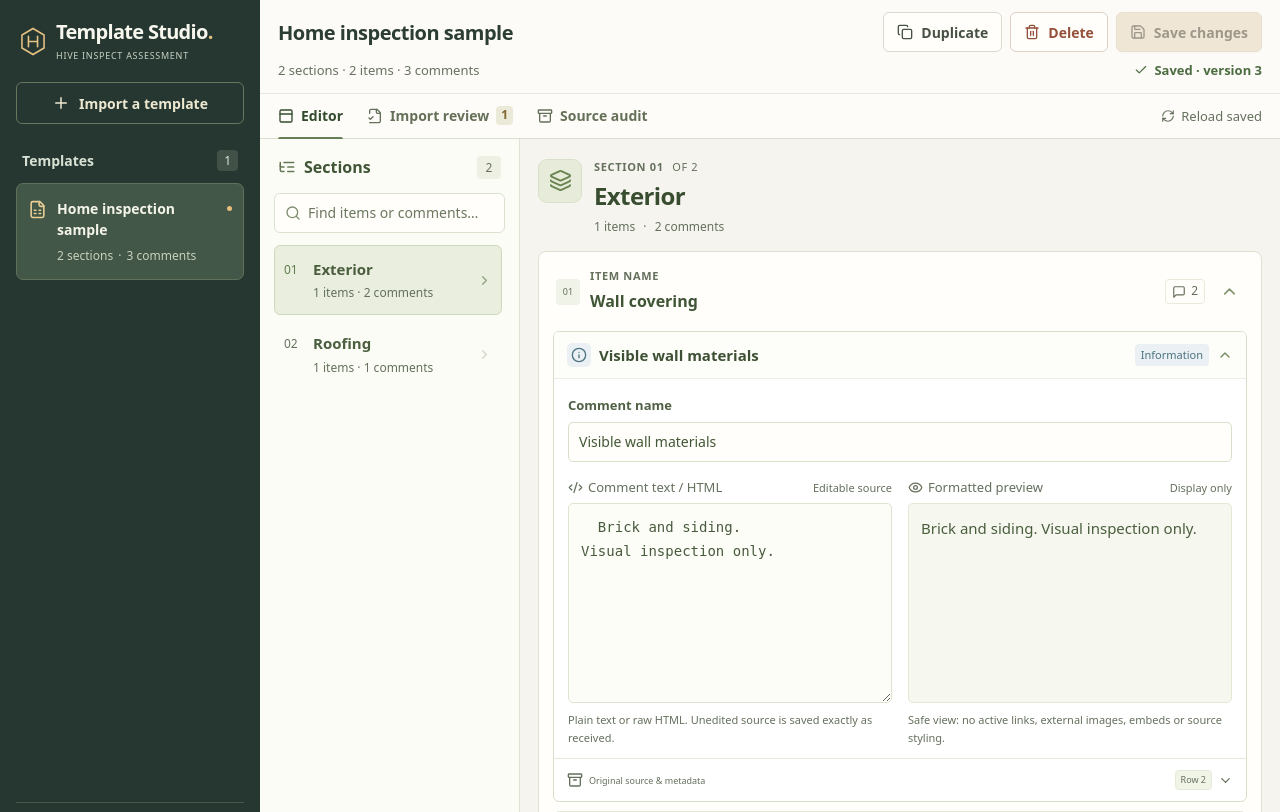
Scenario: end-to-end client state with unit-test API mocks › creates and selects an independent duplicate without issuing an update to the original
Replace the text in the field named "Template name" with "Unsaved original" at x=568, y=32, box [273,14,862,50]
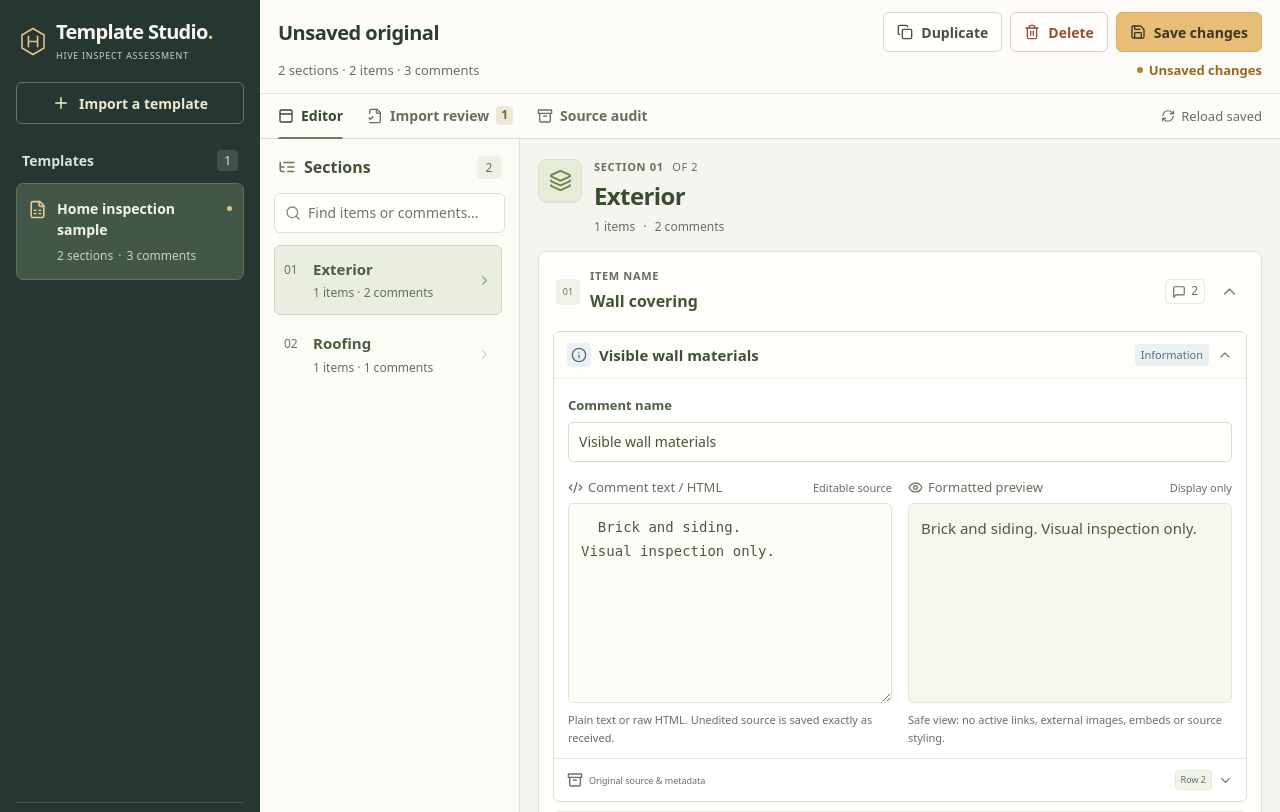
Click the button "Duplicate" at x=943, y=32, box [883,12,1002,52]
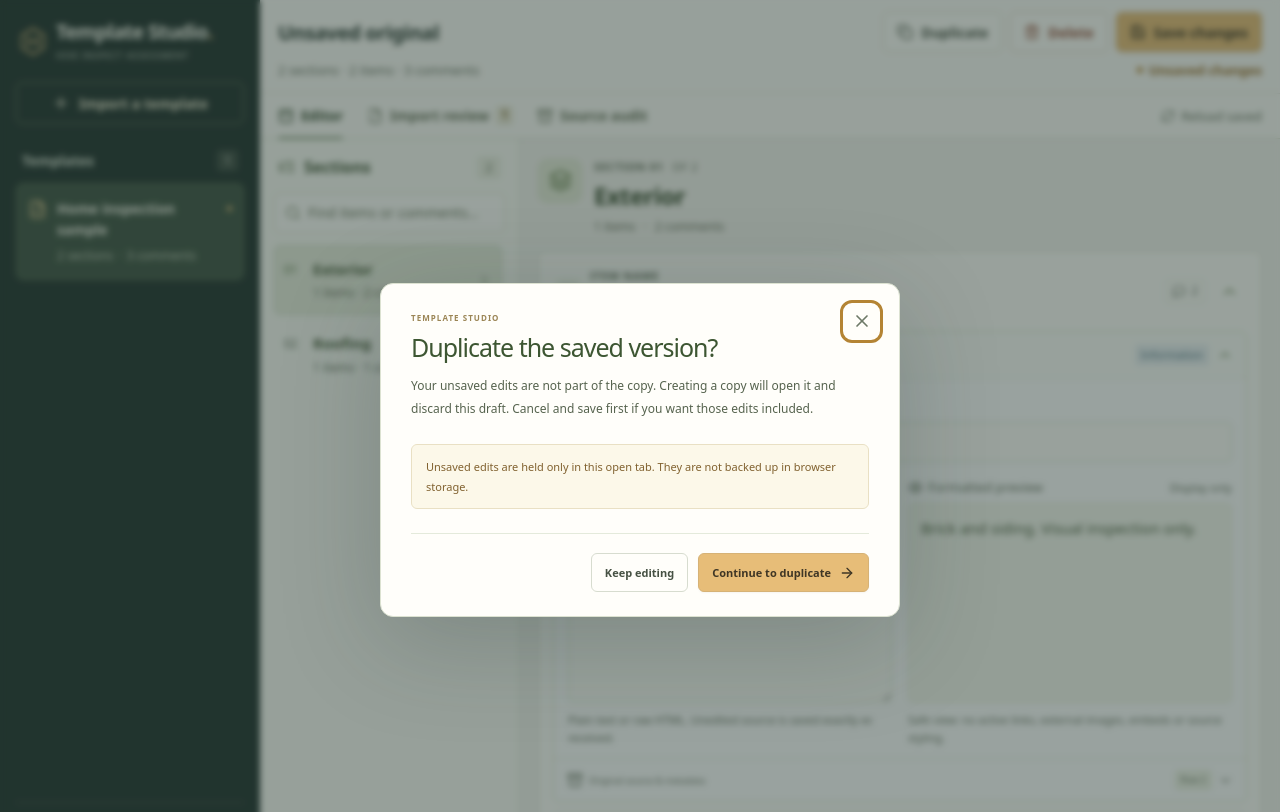
Click the button "Continue to duplicate" at x=784, y=573, box [698,553,869,592]
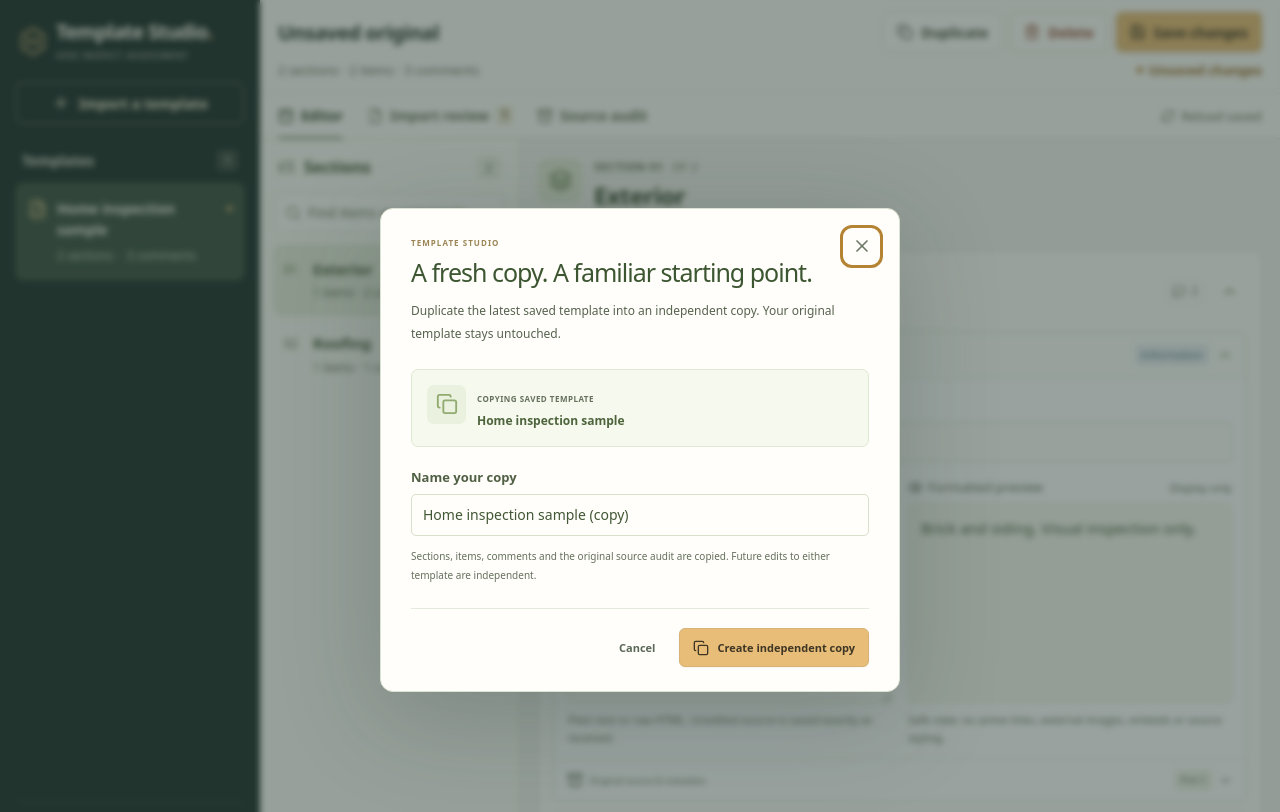
Replace the text in the field labelled "Name your copy" with "  Independent copy  " at x=640, y=515, box [411,494,869,536]
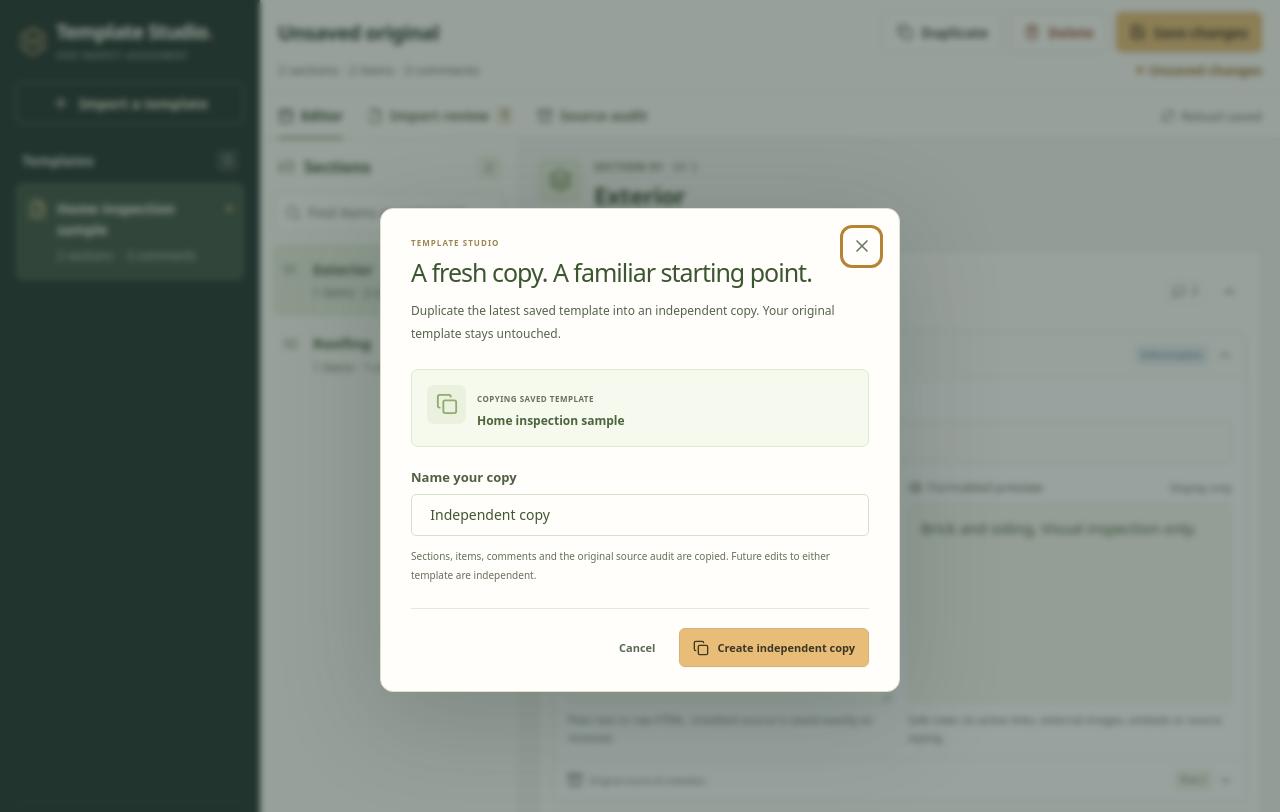
Click the button "Create independent copy" at x=774, y=648, box [679,628,869,667]
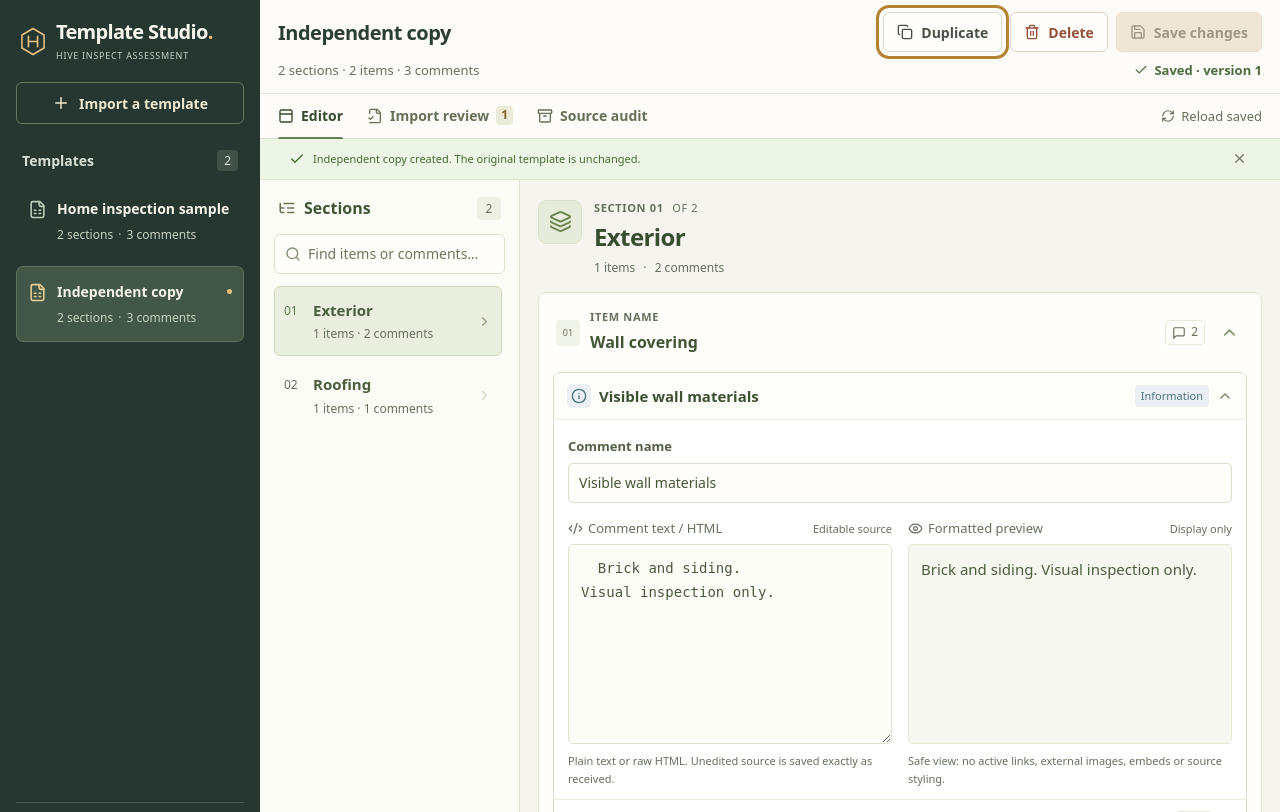
Expected: the button "Home inspection sample 2 sections · 3 comments" is shown, [16,183,244,259]
Expected: the field named "Template name" holds "Independent copy", [273,14,862,50]
